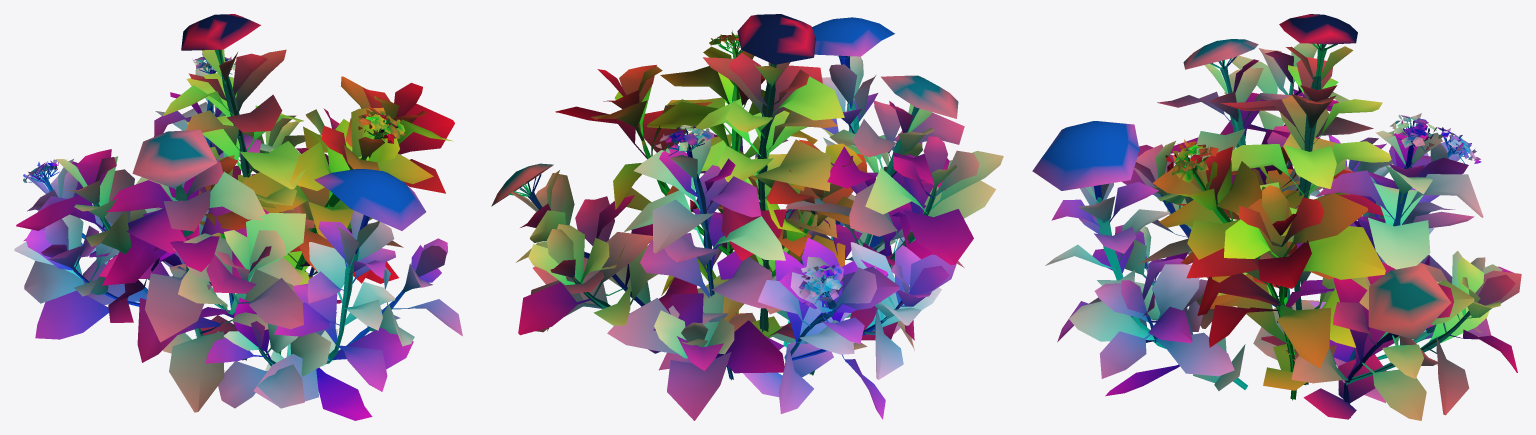
Rendered from Bigleaf_Hydrangea_vgztealha_Mid_vgztealha_VarD_LOD2.fbx.
3 renders of one model, left to right at view 1: azimuth 30°, elevation 25°; view 2: azimuth 150°, elevation 25°; view 3: azimuth 270°, elevation 25°, orthographic. The views are drawn at different scales.
Visible parts, largest first — view 1: _6ykr_VarD_LOD4; view 2: _6ykr_VarD_LOD4; view 3: _6ykr_VarD_LOD4.
Part boxes in pixels (x1,y1,x2,y2): _6ykr_VarD_LOD4: [14, 14, 462, 420]; _6ykr_VarD_LOD4: [491, 14, 1003, 420]; _6ykr_VarD_LOD4: [1032, 14, 1521, 420].
Size of the model in its own units: 127 by 101 by 124.
